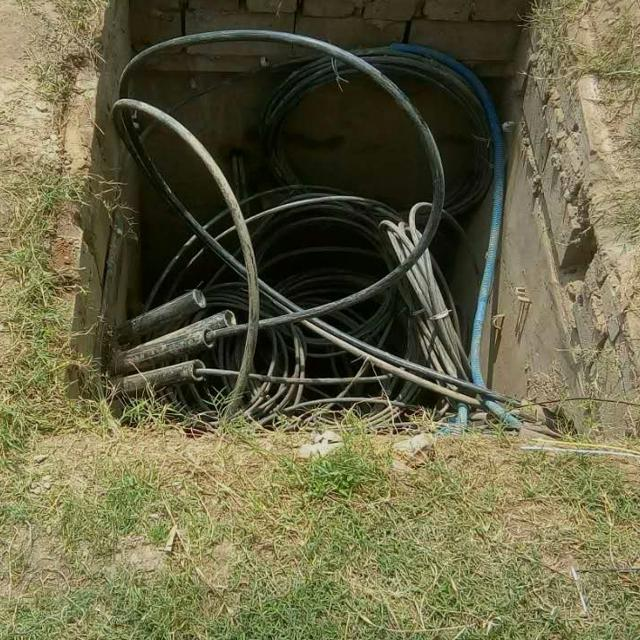lose: (43, 0, 640, 443)
